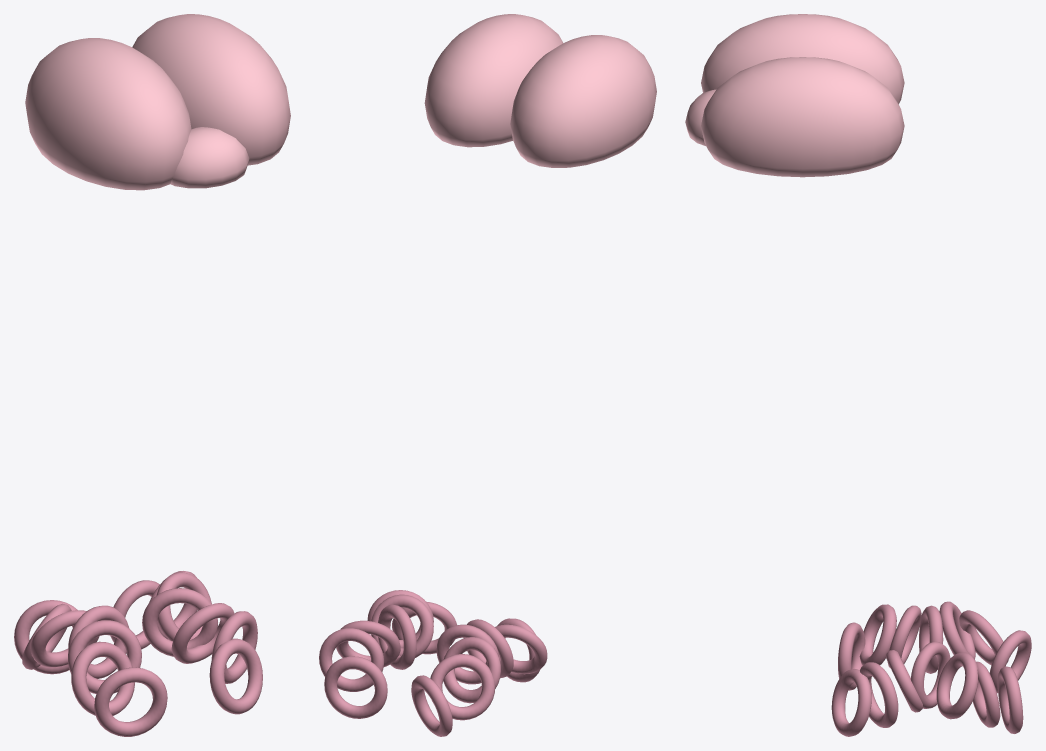
The model's file is brain.glb.
3 renders of one model, left to right at view 1: azimuth 30°, elevation 25°; view 2: azimuth 150°, elevation 25°; view 3: azimuth 270°, elevation 25°, orthographic. The views are drawn at different scales.
Parts seen in each view (by area): view 1: brain, fold; view 2: brain, fold; view 3: brain, fold.
Boxes of the visible parts, x1,y1,x2,y2 form: brain: (25,14,290,190); fold: (14,571,262,736); brain: (424,14,656,167); fold: (319,590,547,736); brain: (685,14,904,177); fold: (831,601,1031,736).
Bounding box in the file's own units: 1.38 × 3.65 × 1.77.
